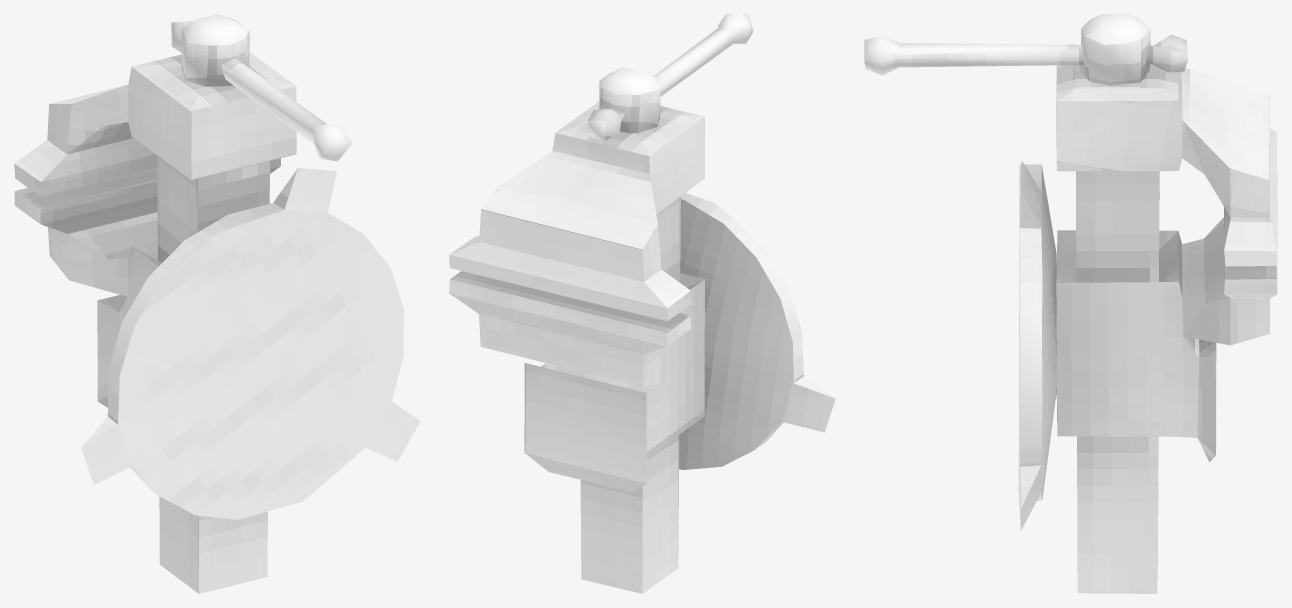
File: Vise.glb
3 renders of one model, left to right at view 1: azimuth 30°, elevation 25°; view 2: azimuth 150°, elevation 25°; view 3: azimuth 270°, elevation 25°, orthographic. The views are drawn at different scales.
Visible parts, largest first — view 1: Vise; view 2: Vise; view 3: Vise.
Part boxes in pixels (bbox=[...]): Vise: bbox=[14, 14, 420, 593]; Vise: bbox=[449, 14, 835, 593]; Vise: bbox=[864, 14, 1277, 593].
Bounding box in the file's own units: 0.2456 × 0.38 × 0.2553.
1 material, 1 textured.
